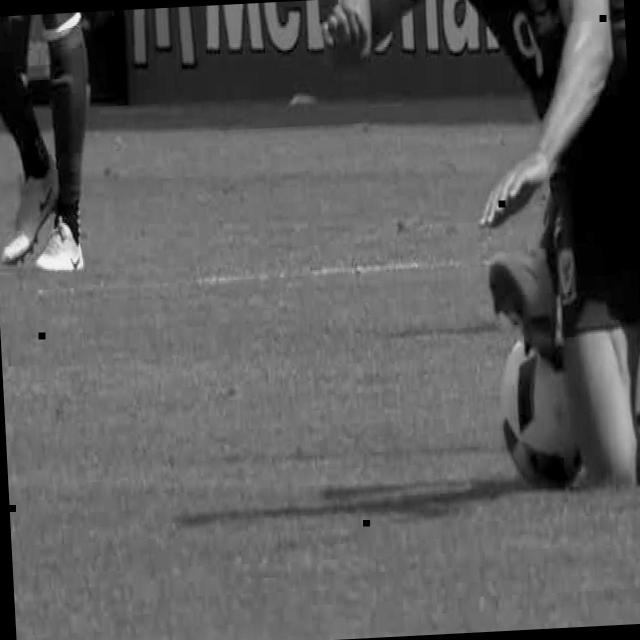ball: (500, 330, 588, 500)
player-white: (319, 0, 640, 513), (474, 0, 640, 500), (0, 11, 113, 284), (578, 0, 630, 139)
